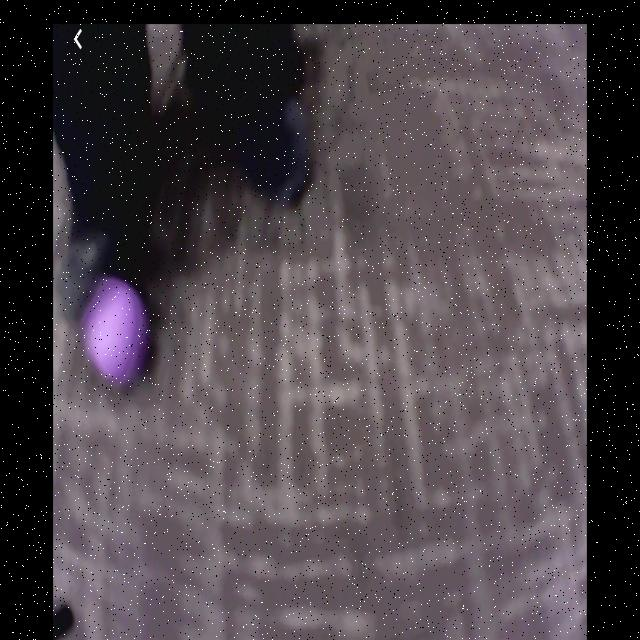ball: (79, 275, 151, 389)
